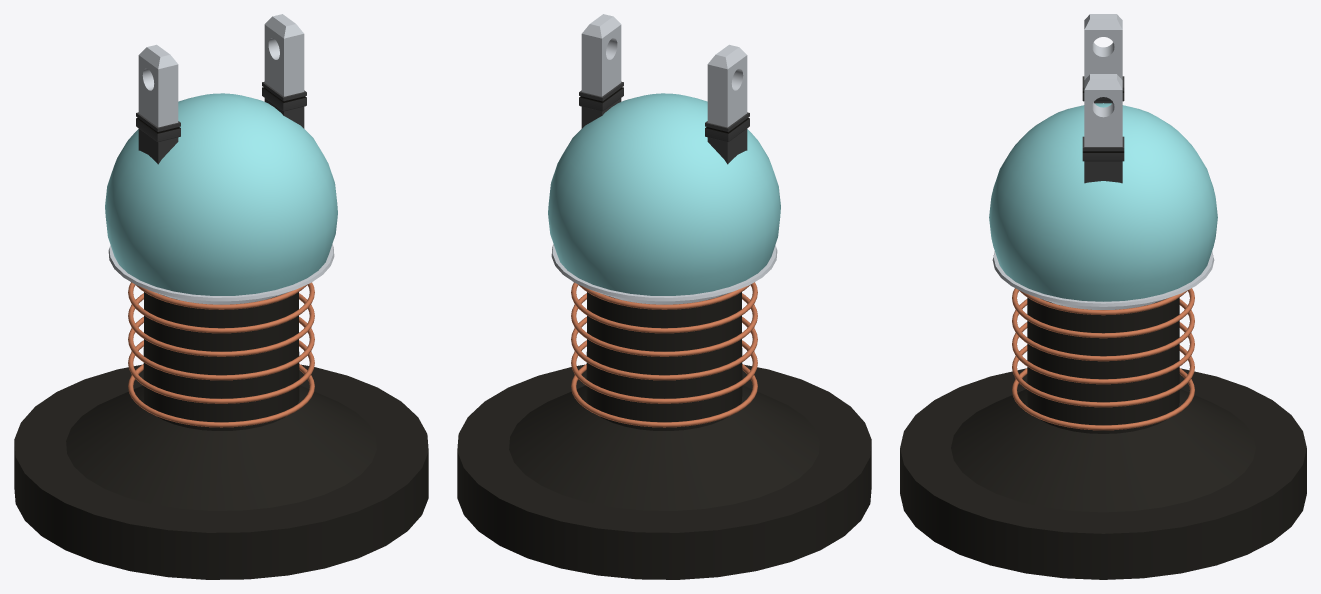
Rendered from zap_L2.fbx.
The picture shows the model from 3 angles, left to right: view 1: azimuth 30°, elevation 25°; view 2: azimuth 150°, elevation 25°; view 3: azimuth 270°, elevation 25°; orthographic projection. The views are drawn at different scales.
Visible parts, largest first — view 1: Circle, Cube, Torus.001; view 2: Circle, Cube, Torus.001; view 3: Circle, Torus.001, Cube.
Part boxes in pixels (x1=…): Circle: x1=14, y1=93, x2=428, y2=579; Cube: x1=136, y1=14, x2=306, y2=164; Torus.001: x1=128, y1=282, x2=314, y2=427; Circle: x1=457, y1=93, x2=871, y2=579; Cube: x1=579, y1=14, x2=749, y2=164; Torus.001: x1=571, y1=282, x2=757, y2=427; Circle: x1=900, y1=103, x2=1306, y2=579; Torus.001: x1=1012, y1=288, x2=1194, y2=430; Cube: x1=1082, y1=14, x2=1124, y2=183.
Size of the model in its own units: 160 by 194 by 160.
